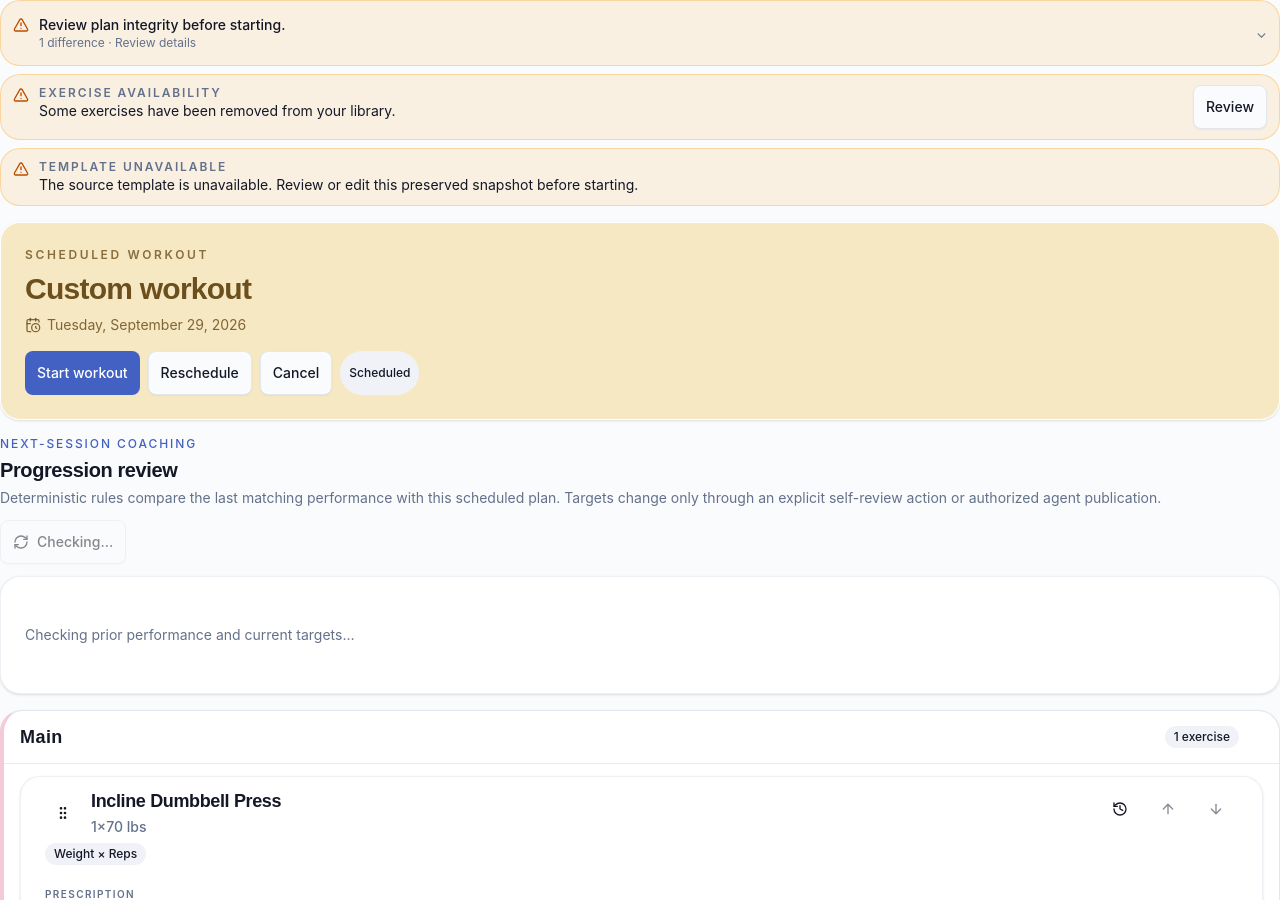
Test: ScheduledWorkoutDetail › renders integrity, stale exercise, and template deletion warnings together
Expected: the element with test id "scheduled-template-diff" is shown, [0, 0, 1279, 66]
Expected: the message with test id "scheduled-stale-exercises-banner" is shown, [0, 74, 1279, 140]
What coordinates should you click on to do the following:
click the heading "Review plan integrity before starting."
I would click on:
 (162, 24)
Its box is [13, 11, 1267, 55].
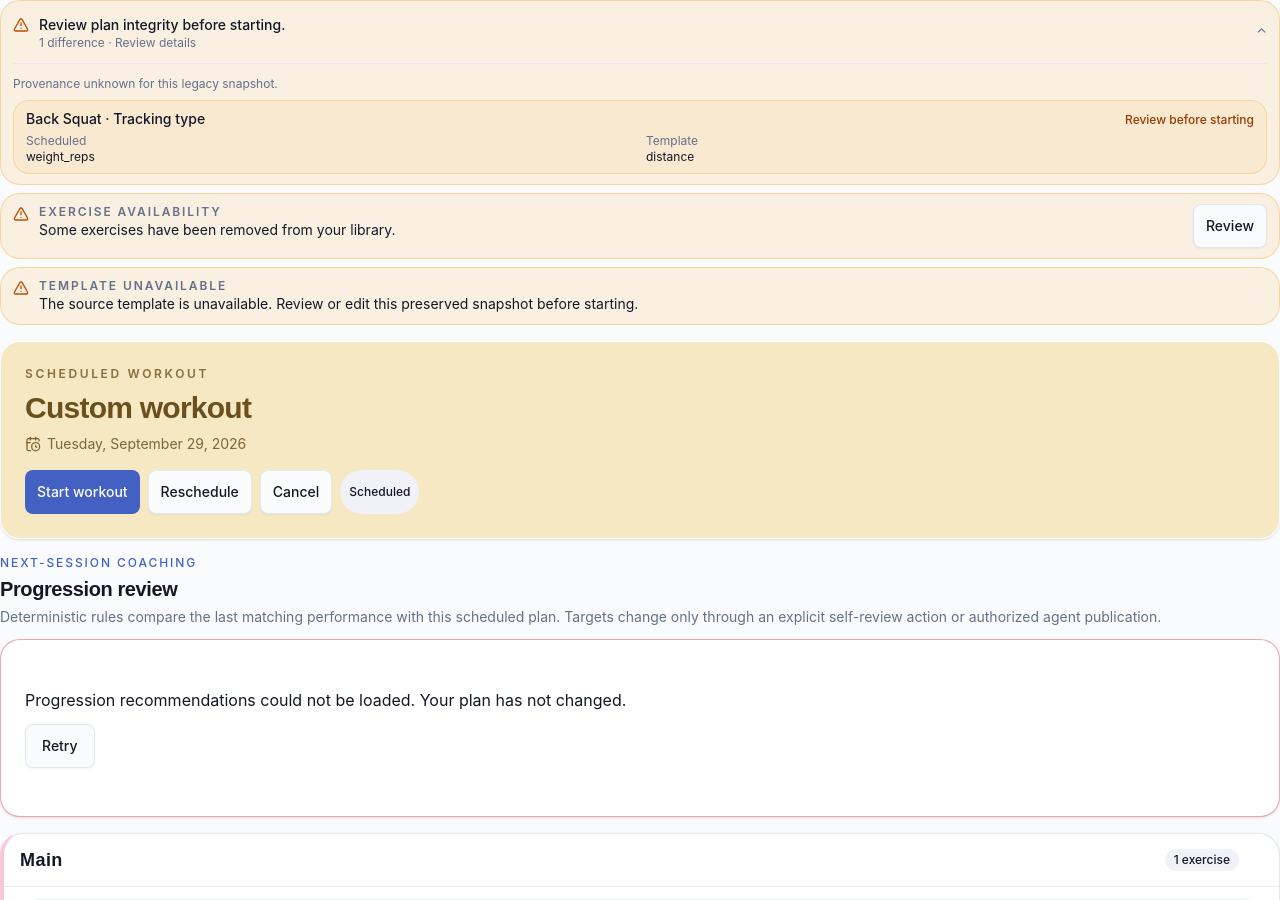
Expected: the text "Provenance unknown for this legacy snapshot." is shown, [13, 76, 278, 91]
Expected: the text "Review before starting" is shown, [1125, 112, 1254, 128]
